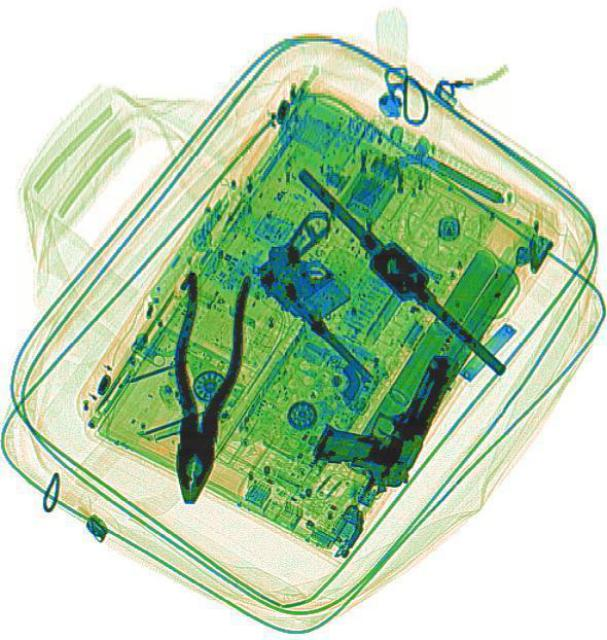Gun: (242, 204, 431, 390), (305, 320, 460, 500)
Pliers: (149, 267, 253, 507)
